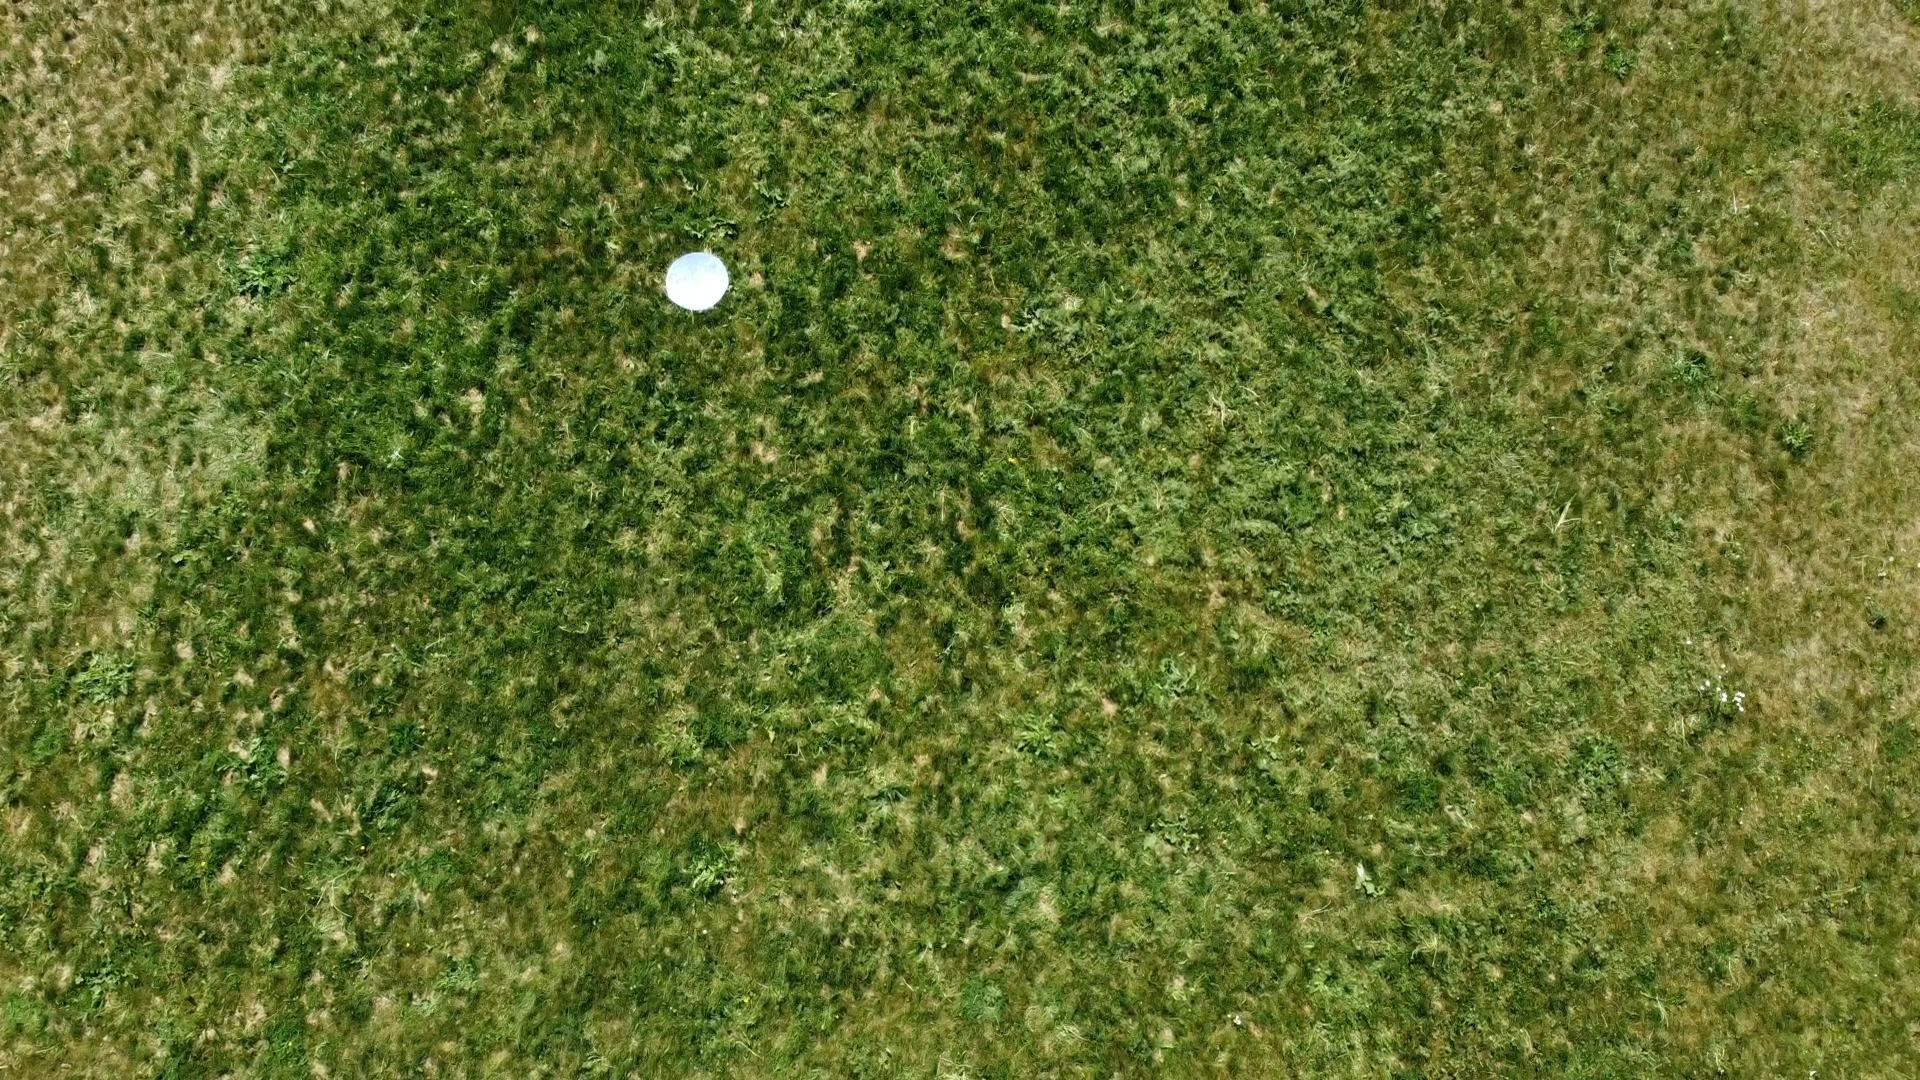Blue: (661, 248, 733, 314)
